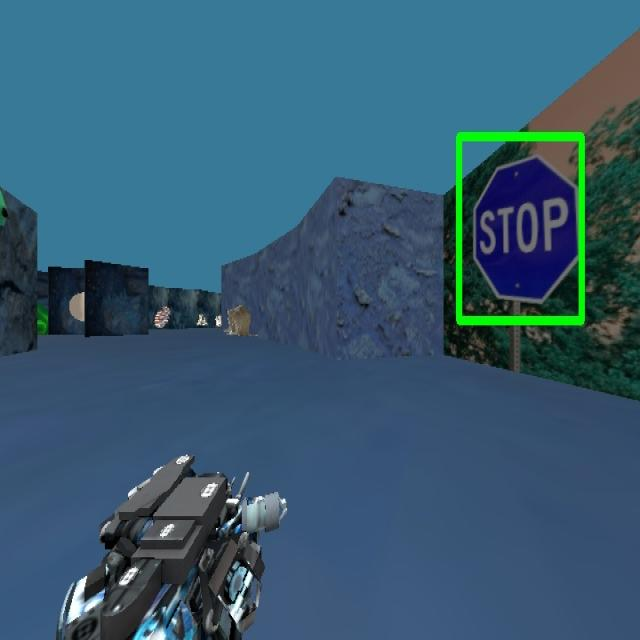Alien: (0, 174, 19, 244)
Circle: (58, 275, 96, 334)
Diamon: (454, 128, 586, 327), (29, 303, 51, 337)
Ice: (226, 304, 250, 336)
Mushroom: (151, 292, 173, 334)
